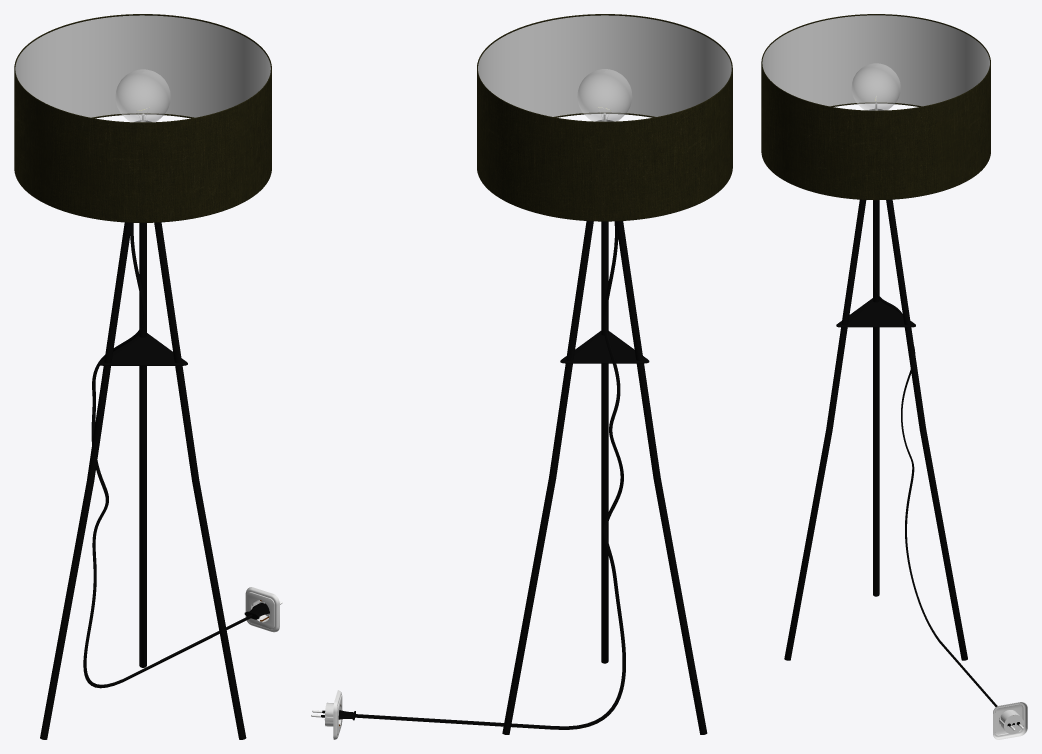
The model's file is floorLamp.glb.
3 renders of one model, left to right at view 1: azimuth 30°, elevation 25°; view 2: azimuth 150°, elevation 25°; view 3: azimuth 270°, elevation 25°, orthographic. The views are drawn at different scales.
Parts seen in each view (by area): view 1: Lamp-Shade_0, Legs_2, Cable_4, LightBulb_5, Triangle-Leg-Connector_3, Electrical-Plug_6; view 2: Lamp-Shade_0, Legs_2, Cable_4, LightBulb_5, Triangle-Leg-Connector_3; view 3: Lamp-Shade_0, Legs_2, LightBulb_5, Cable_4, Triangle-Leg-Connector_3, Electrical-Plug_6.
Part boxes in pixels (x1,y1,x2,y2): Lamp-Shade_0: (14, 14, 271, 222); Legs_2: (40, 222, 246, 739); Cable_4: (83, 222, 282, 688); LightBulb_5: (115, 69, 170, 122); Triangle-Leg-Connector_3: (98, 333, 187, 365); Electrical-Plug_6: (245, 587, 279, 632); Lamp-Shade_0: (477, 14, 732, 221); Legs_2: (502, 221, 707, 734); Cable_4: (311, 221, 625, 729); LightBulb_5: (577, 69, 632, 121); Triangle-Leg-Connector_3: (560, 331, 649, 363); Lamp-Shade_0: (761, 14, 990, 200); Legs_2: (784, 199, 967, 660); LightBulb_5: (851, 63, 900, 110); Cable_4: (873, 200, 1023, 730); Triangle-Leg-Connector_3: (836, 298, 915, 327); Electrical-Plug_6: (993, 702, 1027, 739).
Bounding box in the file's own units: 4.03 × 7.77 × 3.18.
Materials: 12 (1 with a texture image).
